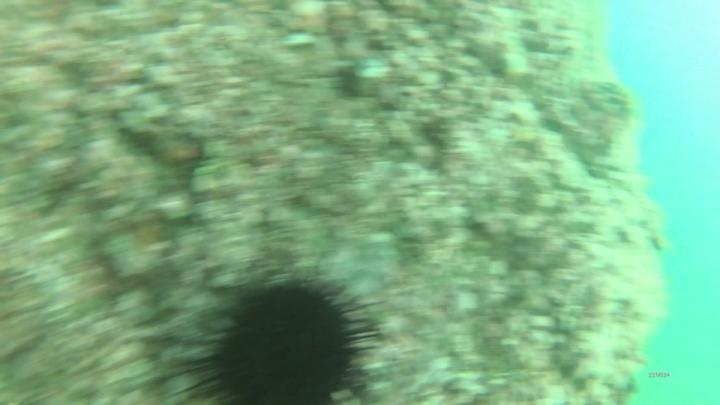echinus: (207, 280, 374, 405)
